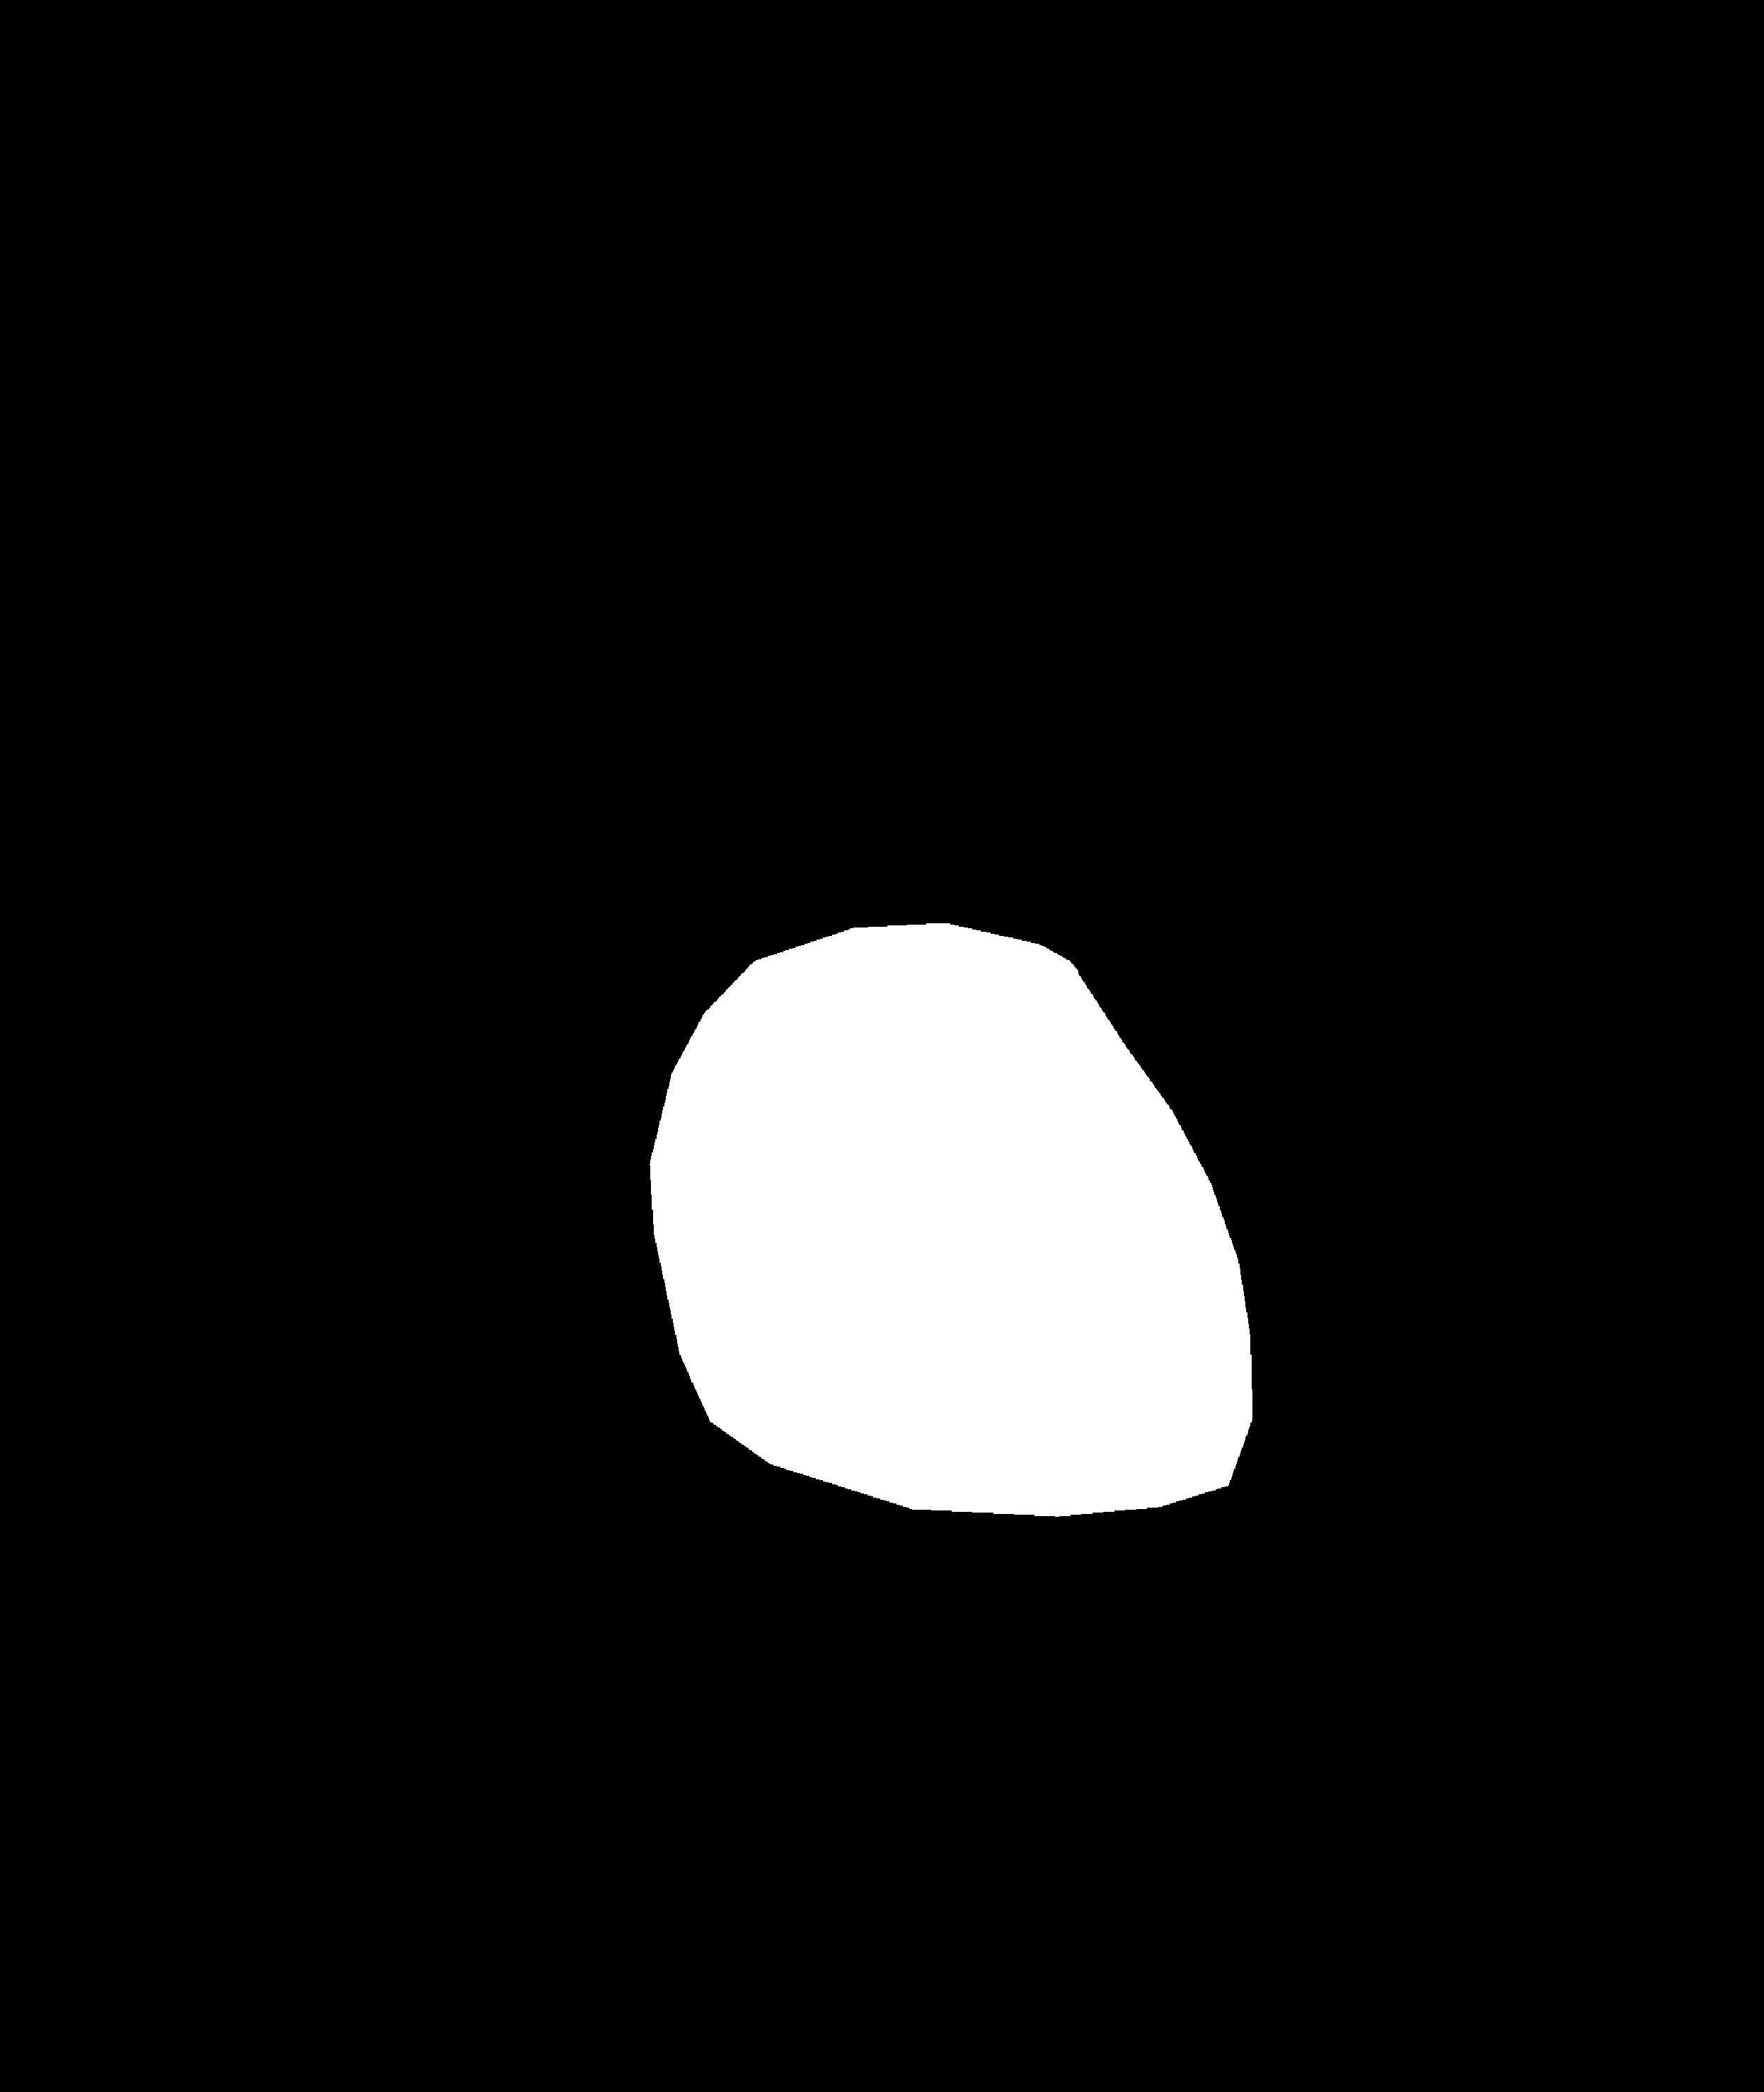heart: (649, 939, 1246, 1585)
left_lung: (163, 273, 798, 1816)
right_lung: (943, 268, 1557, 1849)
